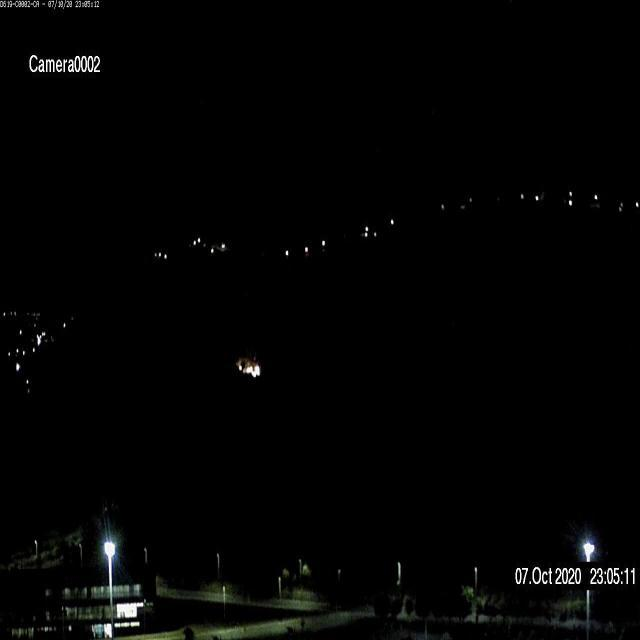Fire: (236, 357, 262, 377)
